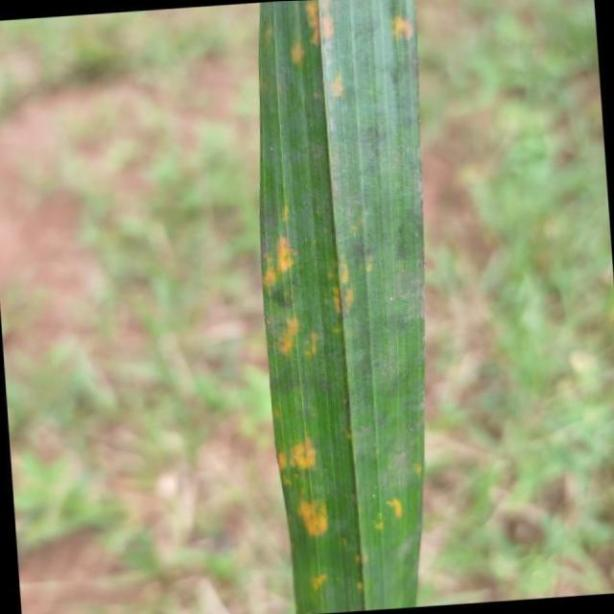Kalium: (259, 0, 421, 614)
